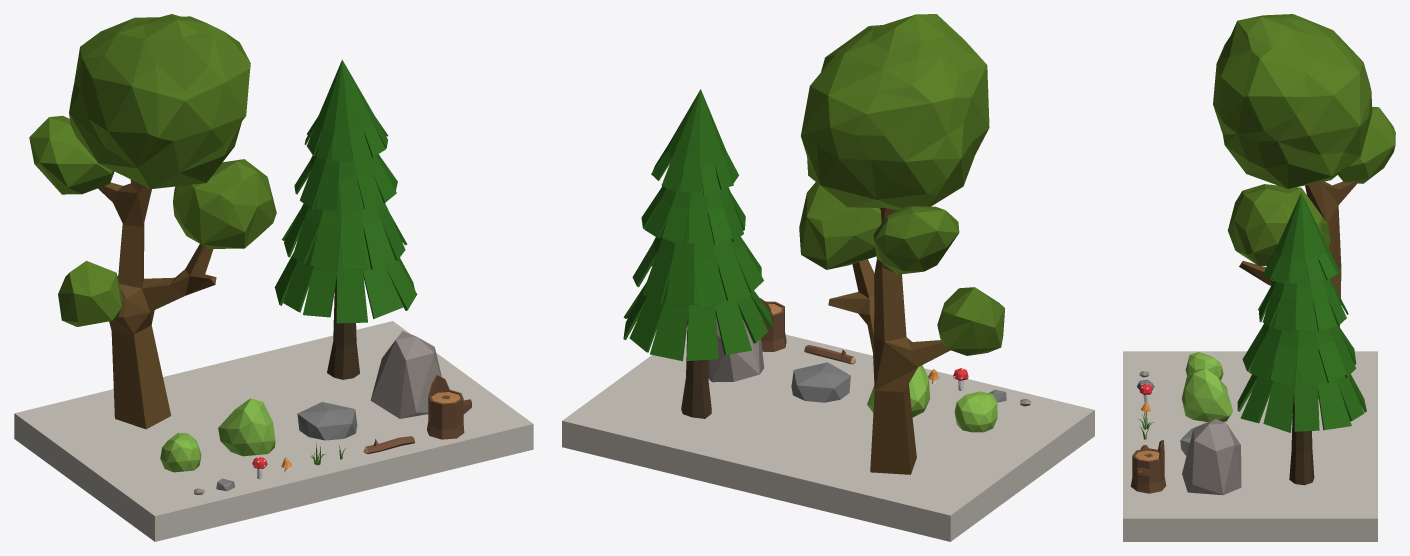
Rendered from trees_grass_and_rocks.glb.
3 renders of one model, left to right at view 1: azimuth 30°, elevation 25°; view 2: azimuth 150°, elevation 25°; view 3: azimuth 270°, elevation 25°, orthographic. The views are drawn at different scales.
Parts seen in each view (by area): view 1: Tree1, BG_Cube, Tree2, Rock4, Bush1, Stump1, Rock1, Bush2; view 2: BG_Cube, Tree1, Tree2, Rock1, Rock4, Bush2, Stump1, Bush1; view 3: BG_Cube, Tree1, Tree2, Rock4, Bush1, Stump1, Bush2.
Part boxes in pixels (bbox=[...]): Tree1: bbox=[29, 14, 276, 429]; BG_Cube: bbox=[14, 321, 533, 541]; Tree2: bbox=[274, 59, 417, 379]; Rock4: bbox=[370, 331, 441, 418]; Bush1: bbox=[218, 398, 275, 456]; Stump1: bbox=[427, 375, 471, 439]; Rock1: bbox=[297, 402, 357, 440]; Bush2: bbox=[160, 432, 201, 472]; BG_Cube: bbox=[562, 329, 1094, 541]; Tree1: bbox=[799, 14, 1004, 474]; Tree2: bbox=[623, 89, 772, 418]; Rock1: bbox=[791, 362, 850, 402]; Rock4: bbox=[708, 316, 764, 382]; Bush2: bbox=[954, 391, 997, 432]; Stump1: bbox=[760, 298, 786, 351]; Bush1: bbox=[867, 365, 930, 417]; BG_Cube: bbox=[1123, 351, 1377, 541]; Tree1: bbox=[1213, 14, 1395, 399]; Tree2: bbox=[1237, 192, 1366, 485]; Rock4: bbox=[1182, 419, 1241, 495]; Bush1: bbox=[1181, 368, 1232, 421]; Stump1: bbox=[1130, 440, 1166, 493]; Bush2: bbox=[1185, 352, 1223, 379].
Bounding box in the file's own units: 19.6 × 21.86 × 13.47.
